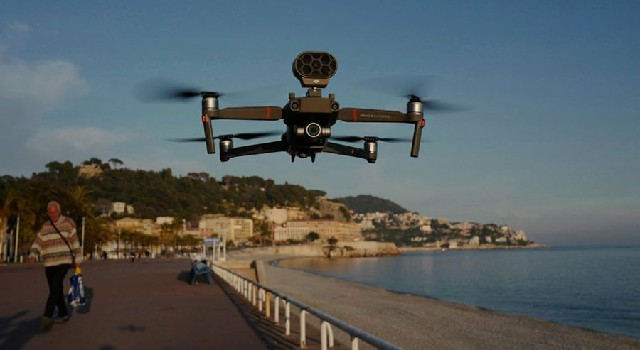maybay_khongnguoilai: (154, 54, 455, 168)
